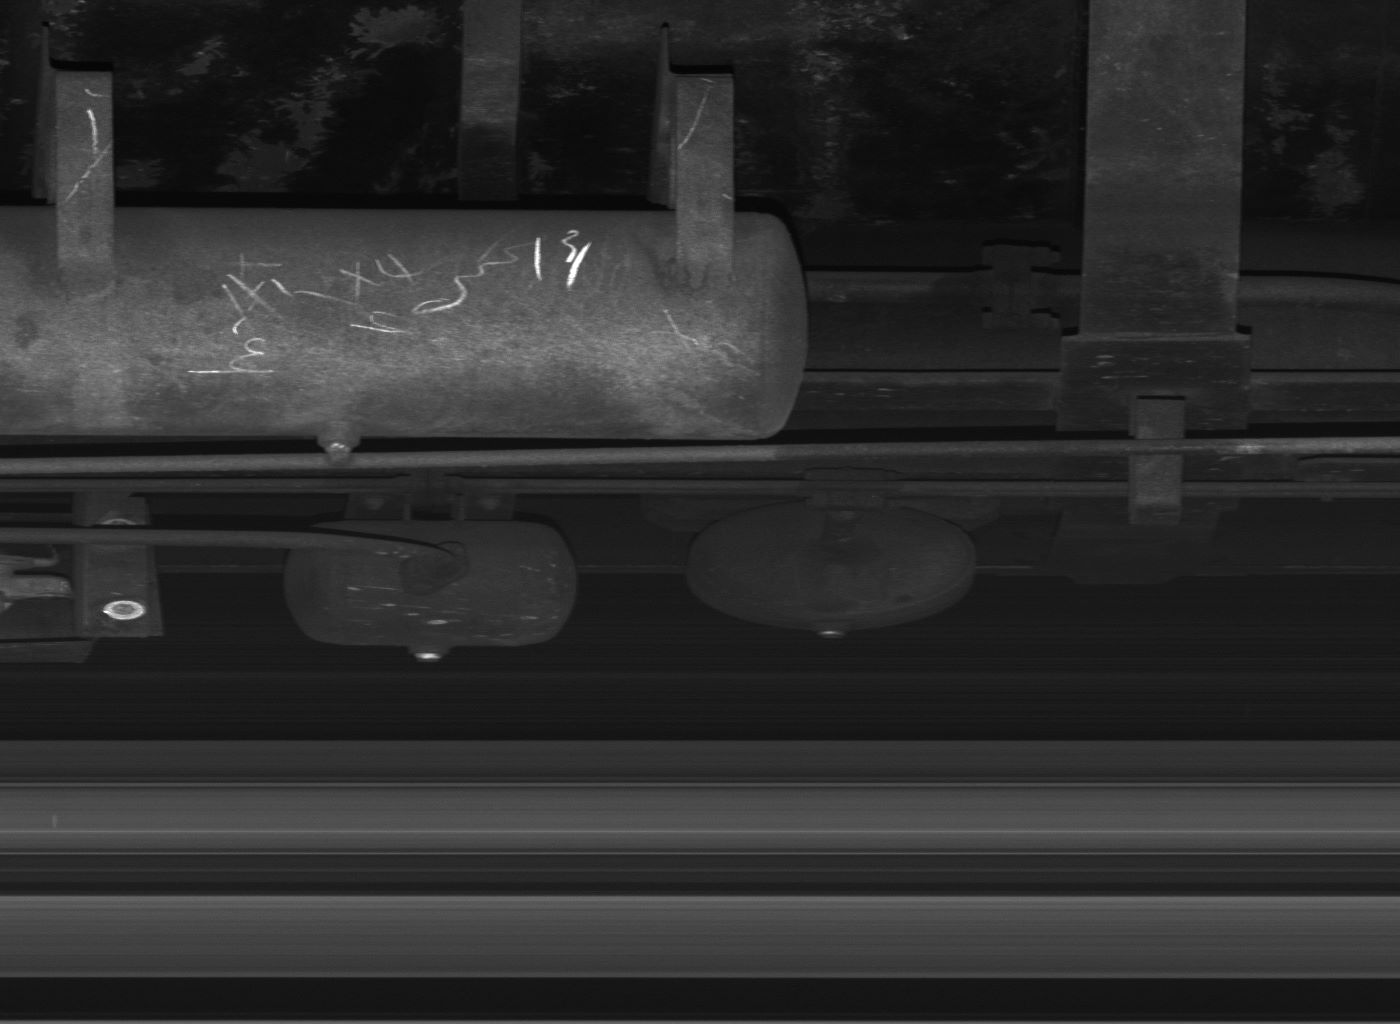Upper lever: (1128, 398, 1186, 525)
